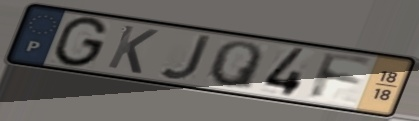4: (259, 46, 307, 99)
F: (307, 50, 376, 102)
G: (50, 15, 111, 69)
J: (158, 33, 215, 82)
K: (104, 23, 162, 76)
Q: (205, 40, 266, 93)
